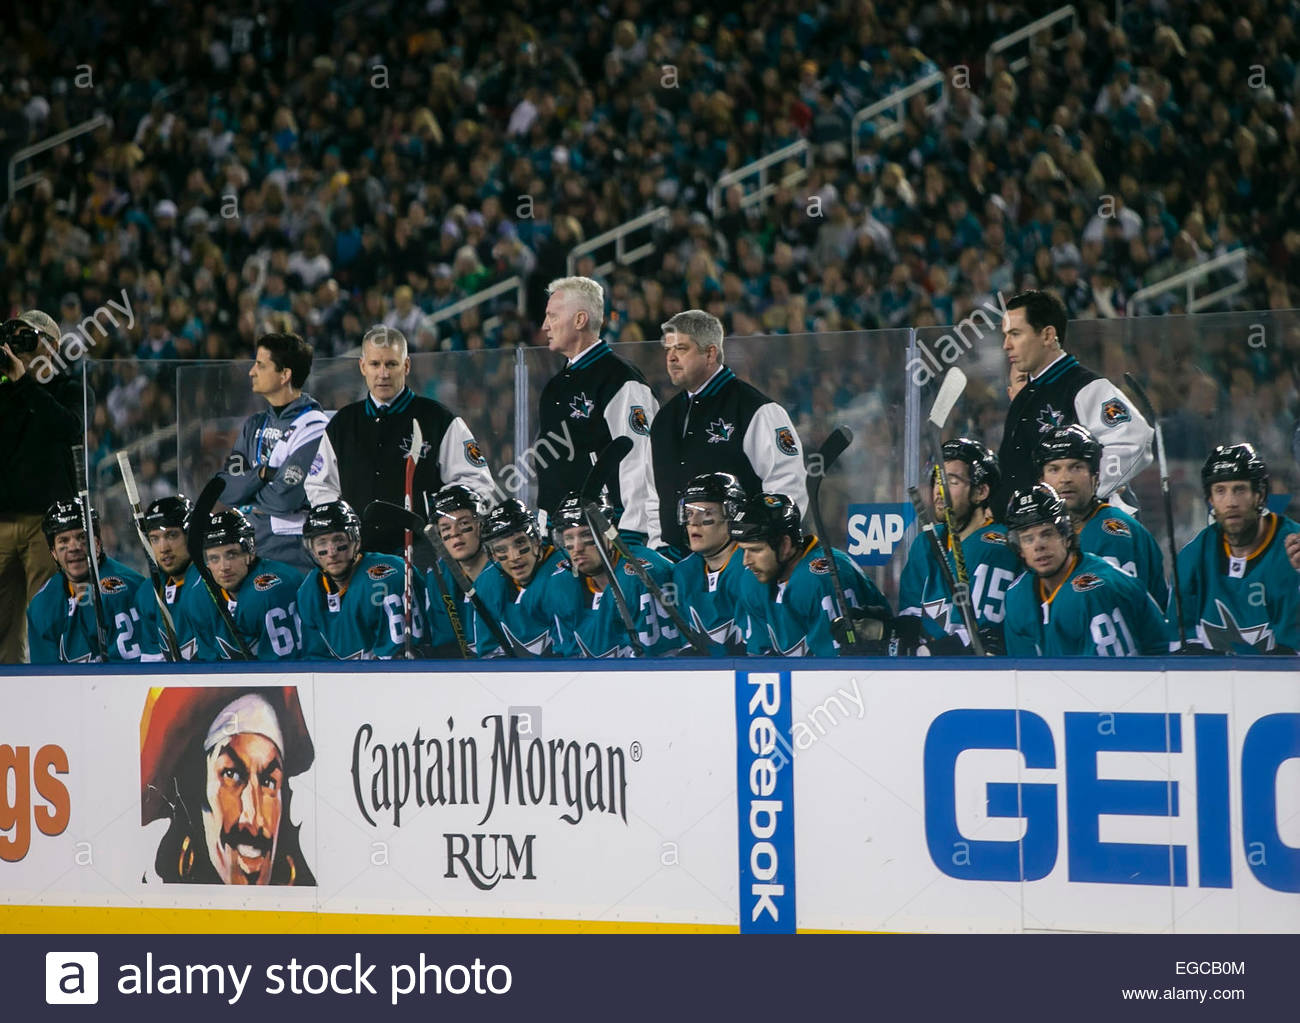geico: (916, 692, 1300, 911)
